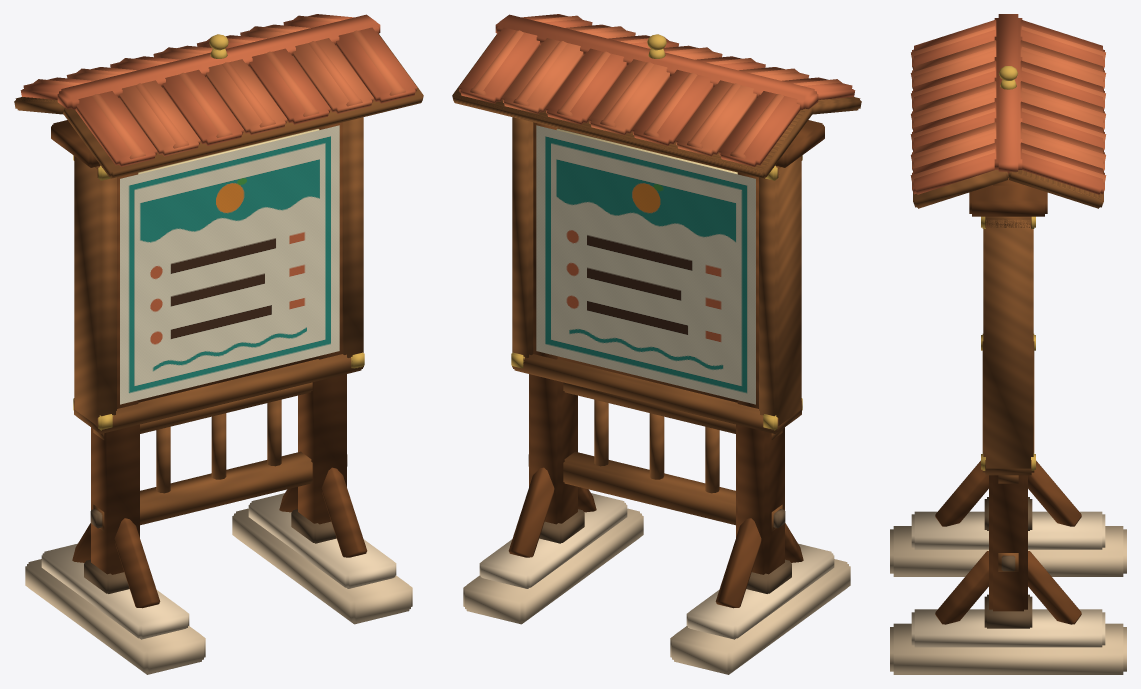
The model's file is market-sign.glb.
The picture shows the model from 3 angles, left to right: view 1: azimuth 30°, elevation 25°; view 2: azimuth 150°, elevation 25°; view 3: azimuth 270°, elevation 25°; orthographic projection. The views are drawn at different scales.
Visible parts, largest first — view 1: Market boardwalk terracotta-hood signboard; view 2: Market boardwalk terracotta-hood signboard; view 3: Market boardwalk terracotta-hood signboard.
Part boxes in pixels (<box>): Market boardwalk terracotta-hood signboard: <box>14,14,423,674</box>; Market boardwalk terracotta-hood signboard: <box>452,14,861,674</box>; Market boardwalk terracotta-hood signboard: <box>890,14,1126,674</box>.
Size of the model in its own units: 0.65 by 1.12 by 0.44.
Materials: 4 (2 with a texture image).
